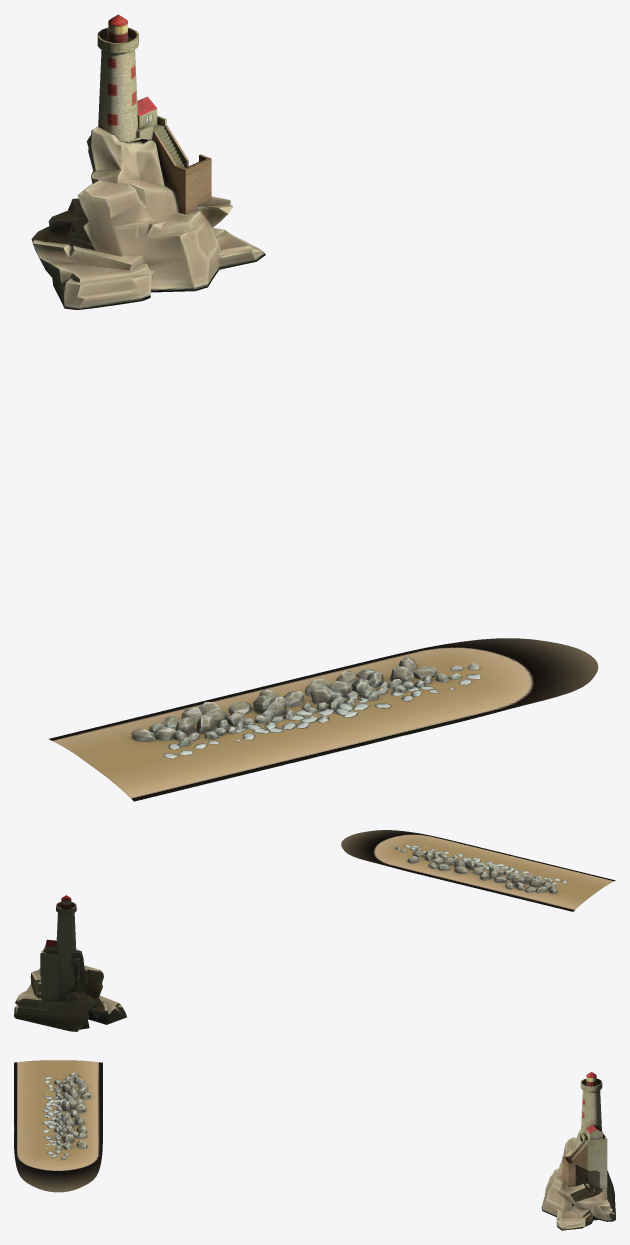
File: light house.glb
3 views of the same model, one above another, from view 1: azimuth 30°, elevation 25°; view 2: azimuth 150°, elevation 25°; view 3: azimuth 270°, elevation 25° (orthographic). The views are drawn at different scales.
Visible parts, largest first — view 1: ground, base, rocks, house; view 2: ground, base, house, rocks; view 3: ground, base, house, rocks.
Part boxes in pixels (<box>): ground: <box>49,638,598,801</box>; base: <box>31,125,265,309</box>; rocks: <box>131,656,480,758</box>; house: <box>97,14,211,214</box>; ground: <box>341,830,615,911</box>; base: <box>14,949,126,1031</box>; house: <box>40,895,76,1000</box>; rocks: <box>395,844,566,893</box>; ground: <box>14,1060,102,1192</box>; base: <box>541,1129,615,1230</box>; house: <box>562,1072,607,1189</box>; rocks: <box>42,1072,90,1159</box>.
Size of what is drawn, in the model's own units: 43.88 by 16.1 by 66.85.
Materials: 2 (2 with a texture image).
